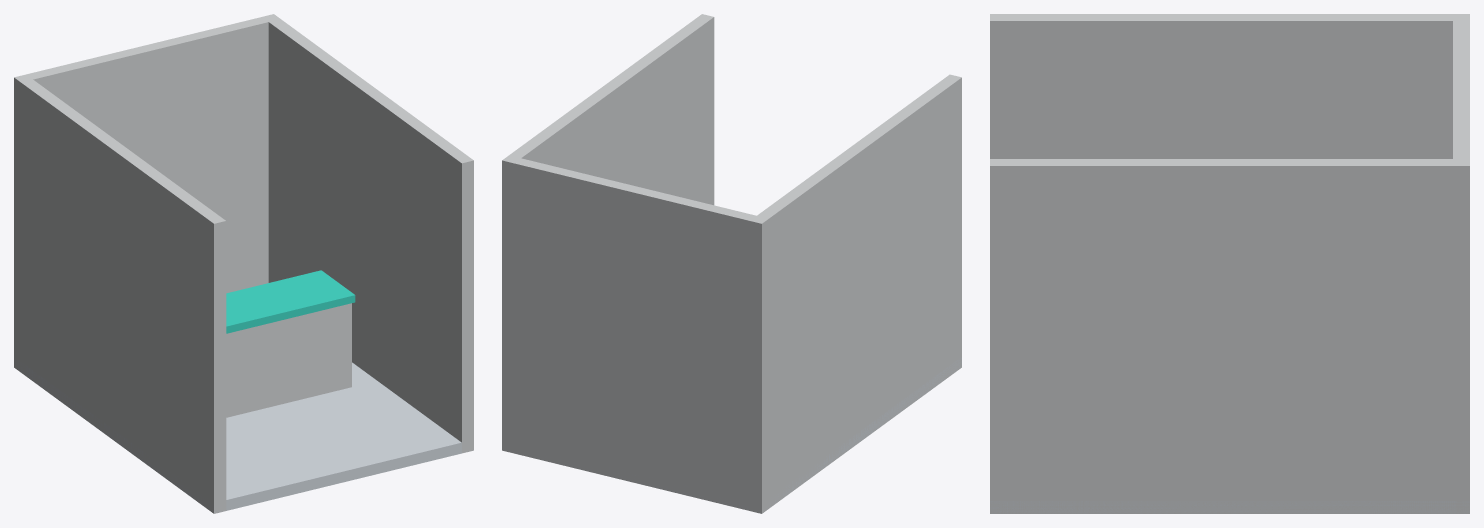
3 renders of one model, left to right at view 1: azimuth 30°, elevation 25°; view 2: azimuth 150°, elevation 25°; view 3: azimuth 270°, elevation 25°, orthographic. The views are drawn at different scales.
Parts seen in each view (by area): view 1: Exhibition Booth Concept; view 2: Exhibition Booth Concept; view 3: Exhibition Booth Concept.
Boxes of the visible parts, left/top/right/bottom form: Exhibition Booth Concept: left=14, top=14, right=473, bottom=513; Exhibition Booth Concept: left=502, top=14, right=961, bottom=513; Exhibition Booth Concept: left=990, top=14, right=1469, bottom=513.
Size of the model in its own units: 3 by 3.2 by 4.
